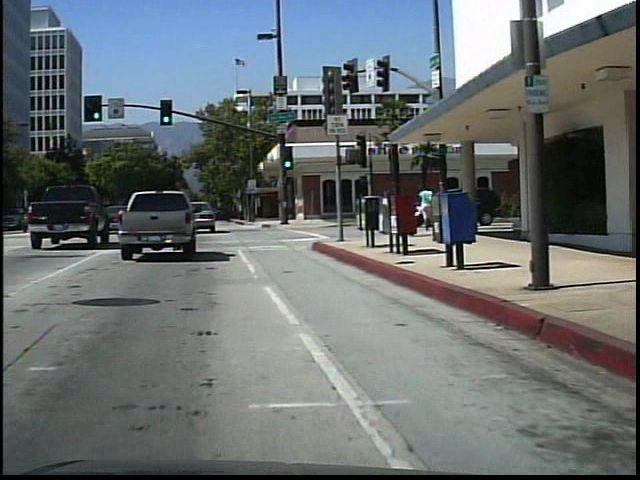person: (417, 182, 438, 237)
